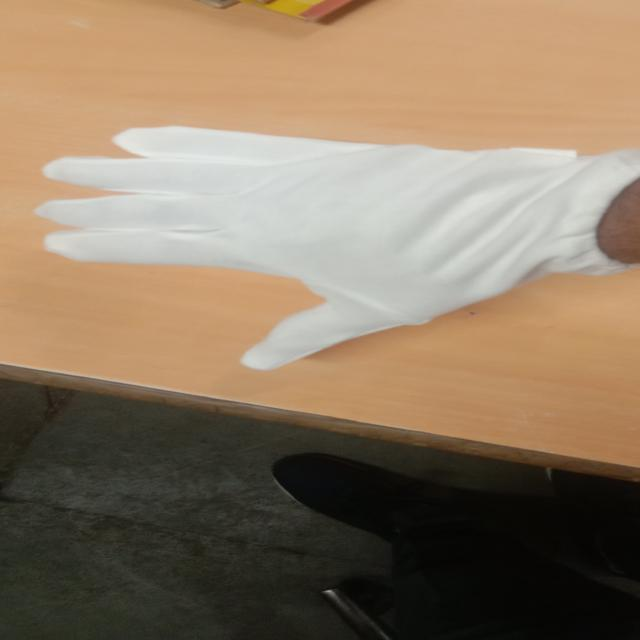gloved_hand: (34, 118, 640, 378)
